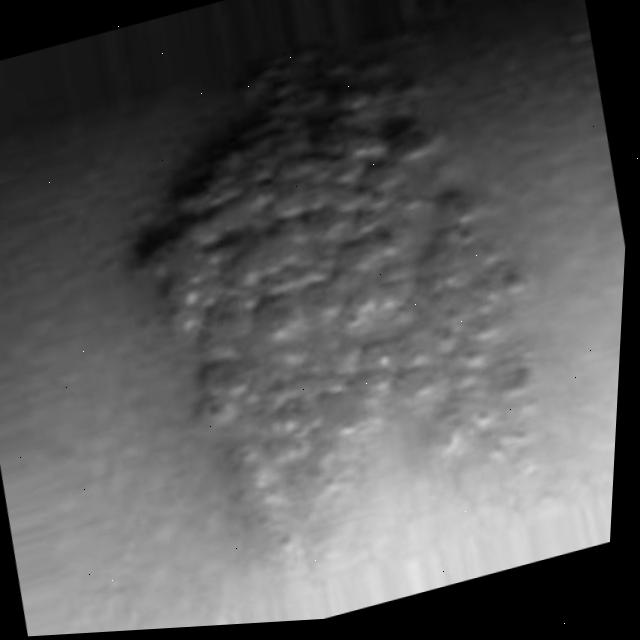Shingles: (93, 5, 601, 589)
